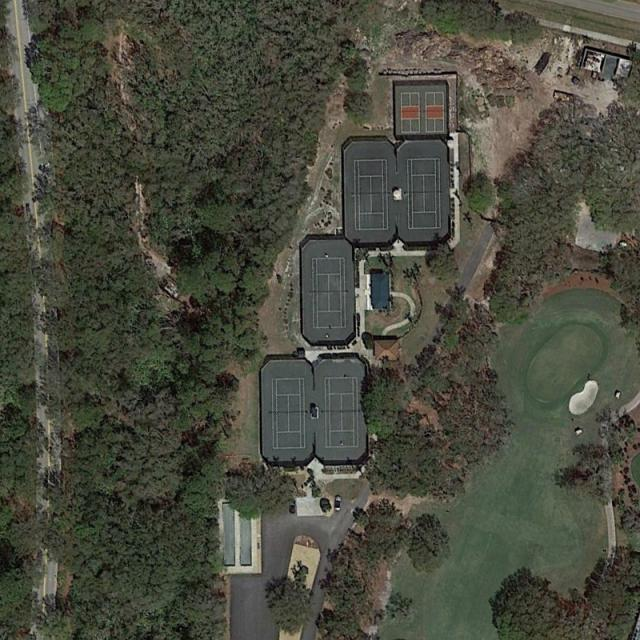vehicle: (334, 495, 341, 511)
